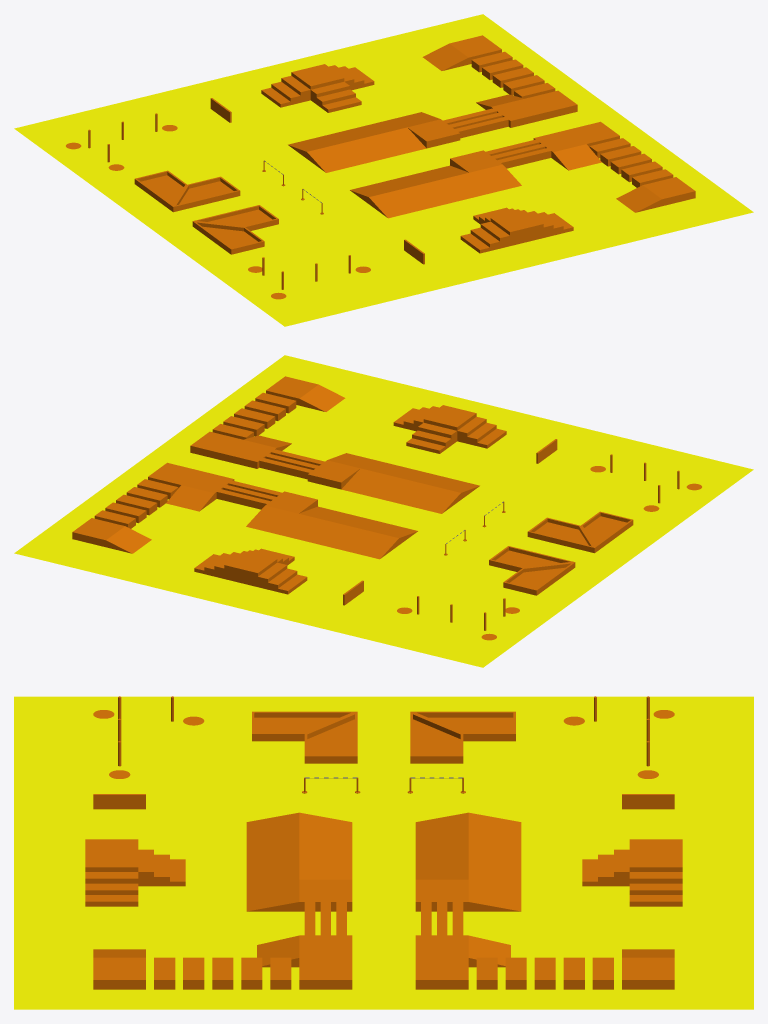
The model's file is obstacle.glb.
3 views of the same model, one above another, from view 1: azimuth 30°, elevation 25°; view 2: azimuth 150°, elevation 25°; view 3: azimuth 270°, elevation 25° (orthographic). The views are drawn at different scales.
Parts seen in each view (by area): view 1: 平面, Cube.014, Cube.001, Cube.013, Cube.003, Cube.015, Cube.017, Cube.012, Cube.004, Cube.005, Cube.018, Cube.016 (+10 smaller); view 2: 平面, Cube.014, Cube.001, Cube.013, Cube.003, Cube.015, Cube.017, Cube.012, Cube.004, Cube.005, Cube.018, Cube.016 (+10 smaller); view 3: 平面, Cube.014, Cube.001, Cube.013, Cube.003, Cube.016, Cube.004, Cube.018, Cube.012, Cube.015, Cube.008, Cube (+10 smaller).
Part boxes in pixels (x1,y1,x2,y2): 平面: (14,14,753,326); Cube.014: (288,112,521,218); Cube.001: (134,170,278,254); Cube.013: (307,127,468,203); Cube.003: (491,90,619,158); Cube.015: (291,64,543,245); Cube.017: (261,75,509,253); Cube.012: (408,119,502,172); Cube.004: (449,35,695,206); Cube.005: (422,43,661,212); Cube.018: (310,81,520,224); Cube.016: (329,65,573,237); 平面: (14,355,753,667); Cube.014: (246,453,479,559); Cube.001: (489,511,633,595); Cube.013: (299,468,460,544); Cube.003: (148,431,276,499); Cube.015: (224,405,476,586); Cube.017: (258,416,506,594); Cube.012: (265,460,359,513); Cube.004: (72,376,318,547); Cube.005: (106,384,345,553); Cube.018: (247,422,457,565); Cube.016: (194,406,438,578); 平面: (14,696,753,1009); Cube.014: (246,812,521,911); Cube.001: (252,711,515,763); Cube.013: (299,812,468,879); Cube.003: (299,935,468,989); Cube.016: (85,872,682,906); Cube.004: (93,957,674,989); Cube.018: (138,849,629,886); Cube.012: (299,879,468,911); Cube.015: (85,845,682,871); Cube.008: (257,935,510,967); Cube: (93,794,674,809).
Bounding box in the file's own units: 14 × 0.505 × 14.
